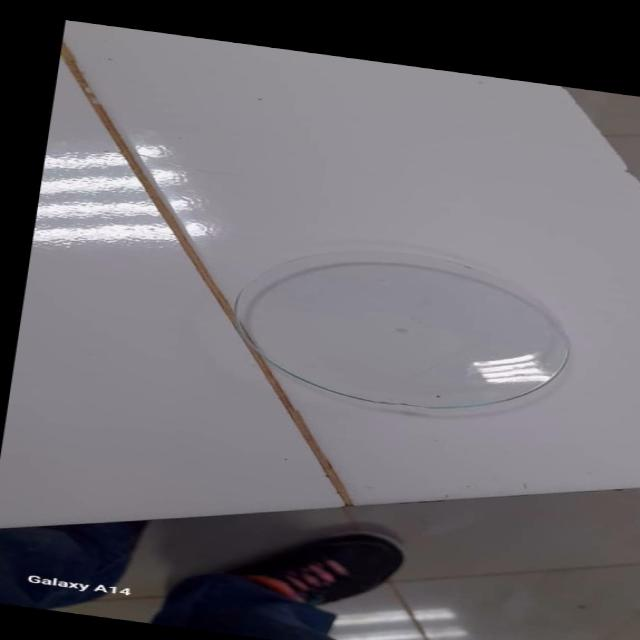Pedrish: (216, 241, 590, 433)
